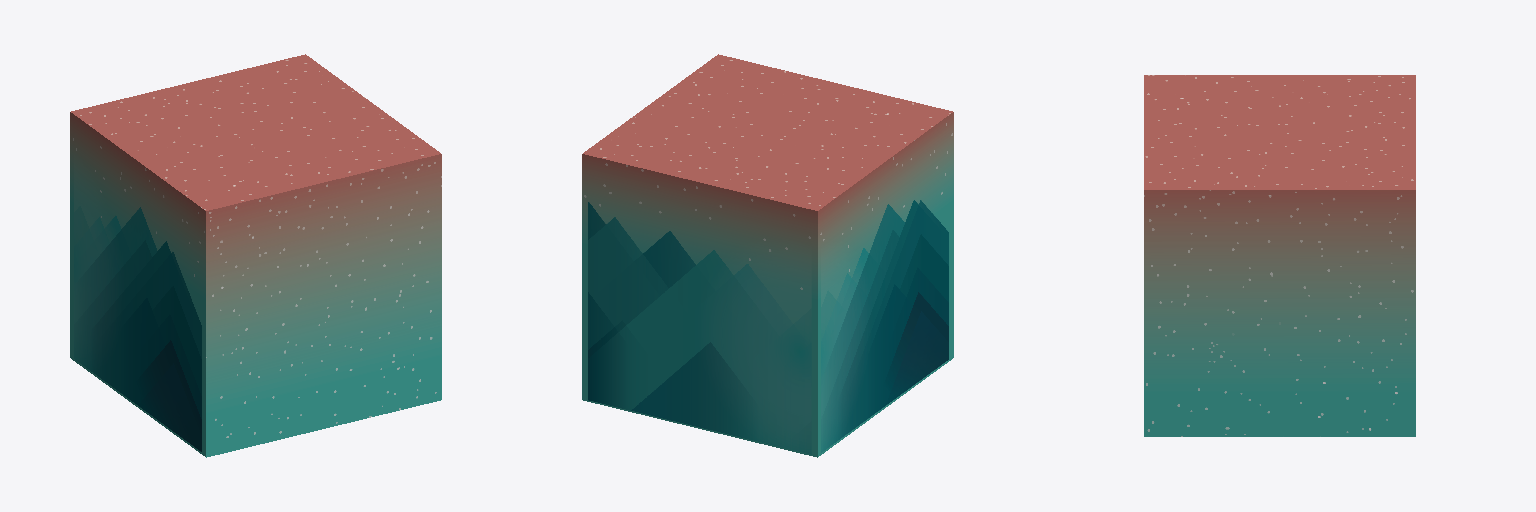
3 views of the same model, side by side, from view 1: azimuth 30°, elevation 25°; view 2: azimuth 150°, elevation 25°; view 3: azimuth 270°, elevation 25° (orthographic).
Visible parts, largest first — view 1: Sphere; view 2: Sphere; view 3: Sphere.
Part boxes in pixels (x1,y1,x2,y2): Sphere: (70,54,441,457); Sphere: (582,54,953,457); Sphere: (1144,75,1415,436).
Bounding box in the file's own units: 42.7 × 42.7 × 42.7.
6 materials, 6 textured.